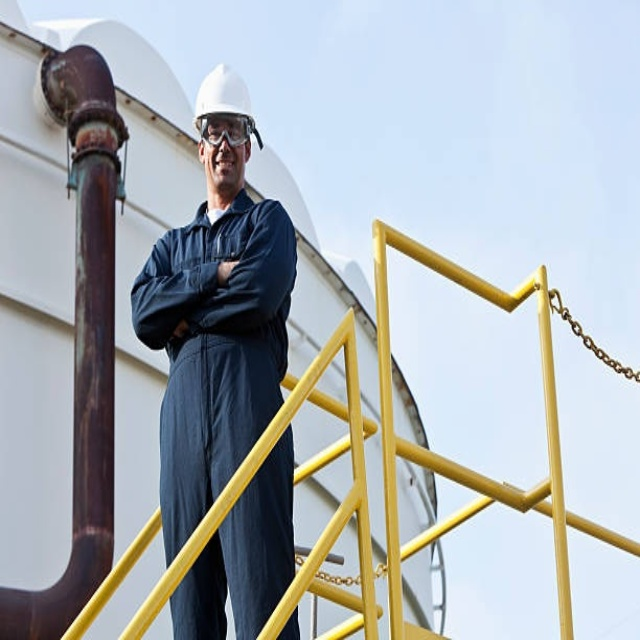Gafas: (197, 115, 254, 148)
Sin_mascara: (210, 154, 235, 184)
